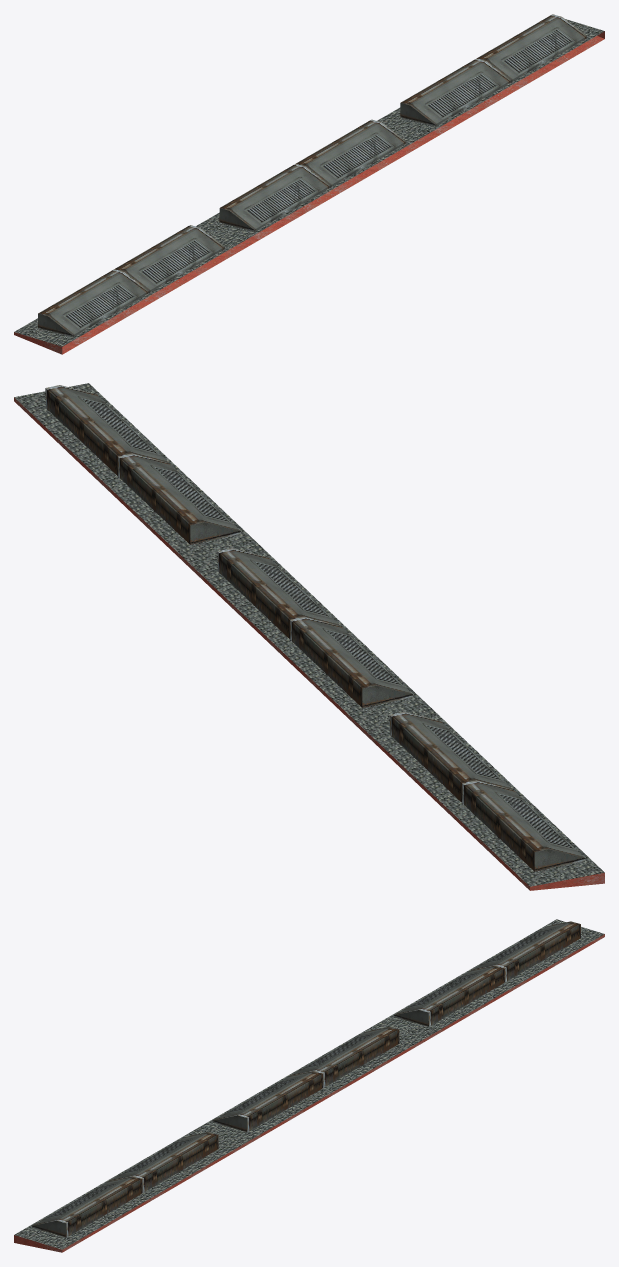
The model's file is des_railjump02.obj.
3 renders of one model, top to bottom at view 1: azimuth 90°, elevation 25°; view 2: azimuth 150°, elevation 25°; view 3: azimuth 270°, elevation 25°, orthographic. The views are drawn at different scales.
Visible parts, largest first — view 1: des_railjump02; view 2: des_railjump02; view 3: des_railjump02.
Part boxes in pixels (x1,y1,x2,y2): des_railjump02: [14, 14, 604, 354]; des_railjump02: [14, 383, 604, 890]; des_railjump02: [14, 919, 604, 1252].
Bounding box in the file's own units: 40.59 × 1.27 × 30.67.
Materials: 3 (3 with a texture image).
